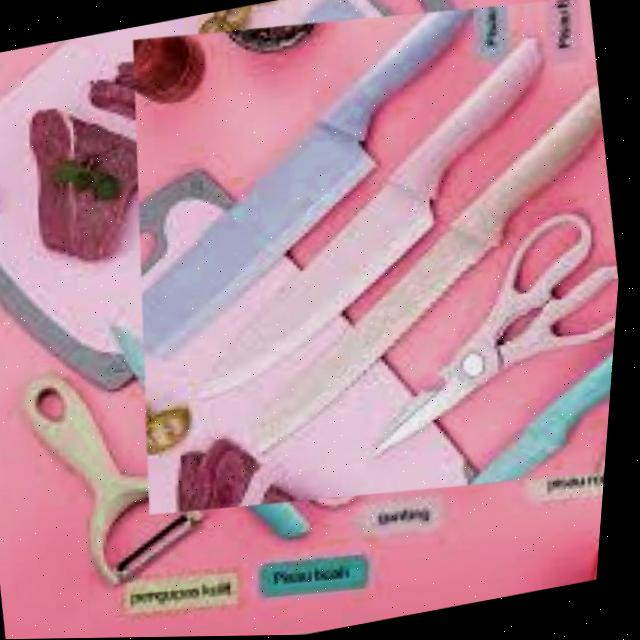knife: (145, 30, 595, 402), (203, 79, 635, 460), (92, 2, 526, 366)
